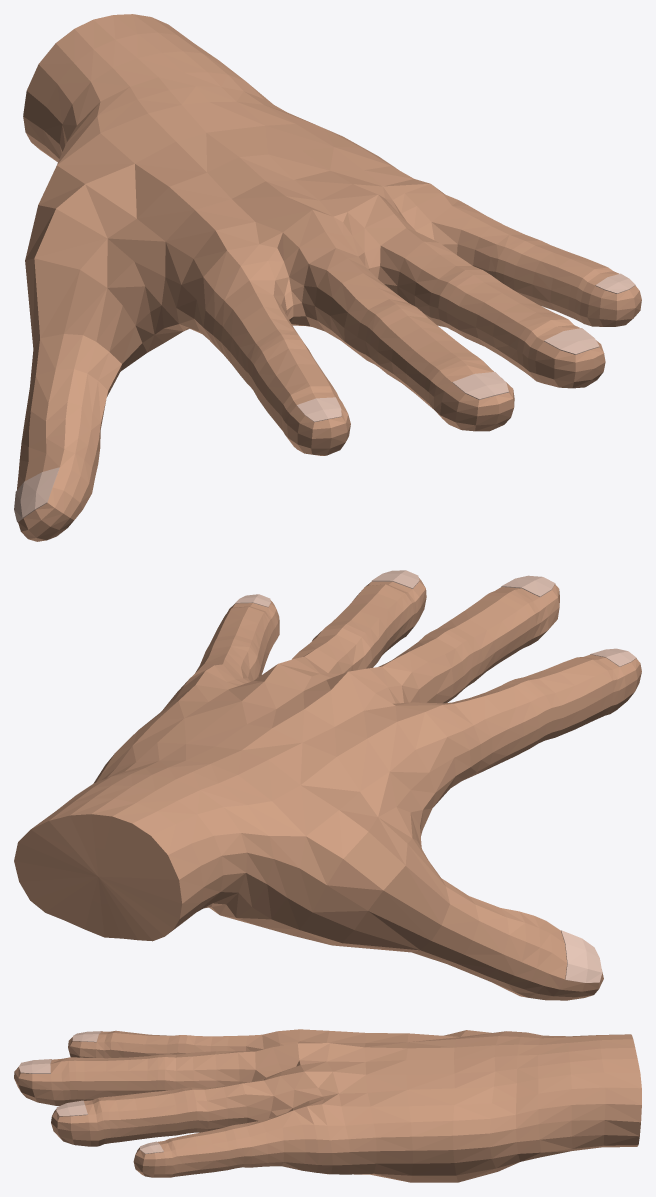
The model's file is Hand.glb.
3 renders of one model, top to bottom at view 1: azimuth 30°, elevation 25°; view 2: azimuth 150°, elevation 25°; view 3: azimuth 270°, elevation 25°, orthographic. The views are drawn at different scales.
Visible parts, largest first — view 1: Node; view 2: Node; view 3: Node.
Part boxes in pixels (box(x1,y1,x2,y2)): Node: box(14, 14, 641, 541); Node: box(14, 570, 641, 1000); Node: box(14, 1029, 641, 1182).
Size of the model in its own units: 1.71 by 0.9437 by 2.59.
